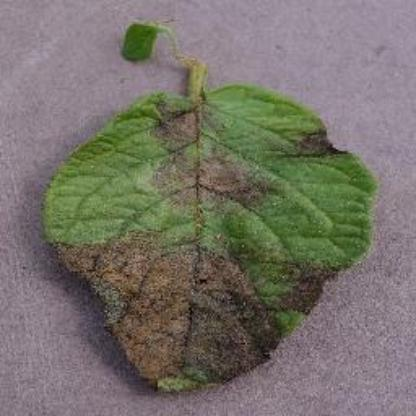Late-Blight: (44, 24, 370, 404)
